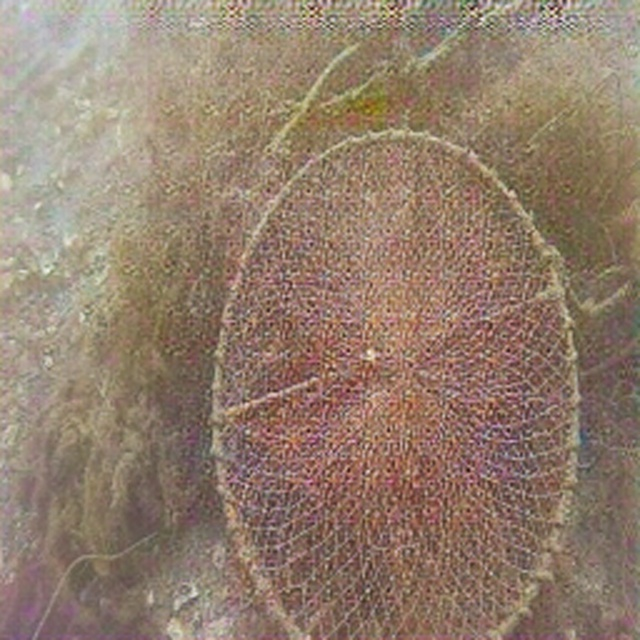mine: (210, 127, 581, 639)
